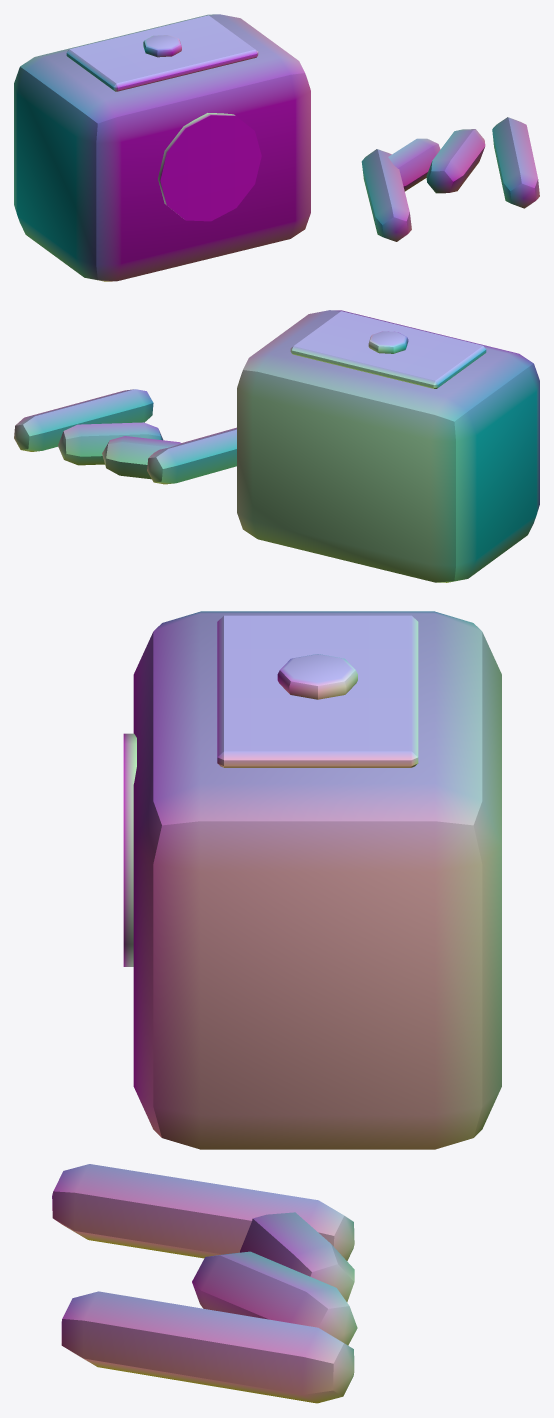
File: env_deco_sharpener.glb
3 renders of one model, top to bottom at view 1: azimuth 30°, elevation 25°; view 2: azimuth 150°, elevation 25°; view 3: azimuth 270°, elevation 25°, orthographic. The views are drawn at different scales.
Visible parts, largest first — view 1: env_deco_sharpener_mesh; view 2: env_deco_sharpener_mesh; view 3: env_deco_sharpener_mesh.
Part boxes in pixels (left/top/right/bottom): env_deco_sharpener_mesh: left=14, top=14, right=539, bottom=281; env_deco_sharpener_mesh: left=14, top=310, right=539, bottom=582; env_deco_sharpener_mesh: left=52, top=611, right=501, bottom=1403.
Bounding box in the file's own units: 0.3306 × 0.1319 × 0.1344.
